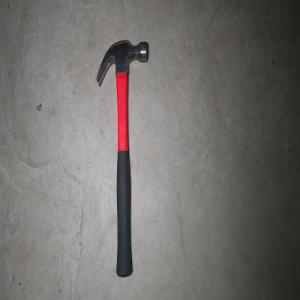Hammer: (95, 38, 147, 278)
